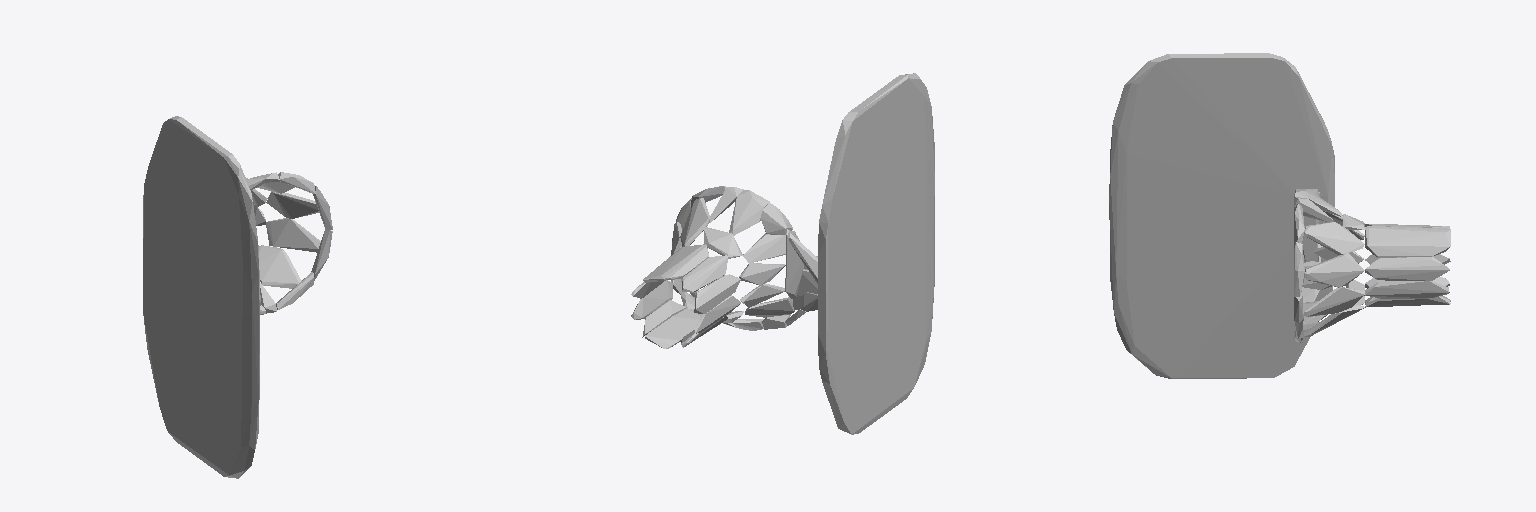
The model's file is basketball_net_and_board_vhacd.obj.
3 views of the same model, side by side, from view 1: azimuth 30°, elevation 25°; view 2: azimuth 150°, elevation 25°; view 3: azimuth 270°, elevation 25° (orthographic).
Parts seen in each view (by area): view 1: convex_0, convex_18, convex_25, convex_30; view 2: convex_0, convex_7, convex_8, convex_2, convex_11, convex_6, convex_22, convex_10, convex_16, convex_29, convex_13, convex_20 (+6 smaller); view 3: convex_0, convex_13, convex_3, convex_10, convex_30, convex_22, convex_25, convex_9.
Part boxes in pixels (x1,y1,x2,y2): convex_0: (143, 116, 260, 478); convex_18: (259, 245, 301, 288); convex_25: (266, 218, 320, 252); convex_30: (266, 191, 318, 218); convex_0: (818, 73, 934, 434); convex_7: (645, 308, 701, 348); convex_8: (729, 190, 769, 235); convex_2: (694, 274, 740, 313); convex_11: (682, 255, 727, 292); convex_6: (742, 231, 795, 263); convex_22: (680, 198, 709, 246); convex_10: (631, 280, 672, 319); convex_16: (785, 229, 803, 298); convex_29: (704, 227, 742, 258); convex_13: (643, 244, 705, 282); convex_20: (739, 263, 785, 284); convex_0: (1109, 53, 1334, 378); convex_13: (1365, 227, 1450, 257); convex_3: (1365, 257, 1449, 280); convex_10: (1365, 280, 1449, 298); convex_30: (1305, 253, 1364, 287); convex_22: (1305, 222, 1364, 254); convex_25: (1304, 287, 1364, 316); convex_9: (1365, 296, 1450, 307).
Bounding box in the file's own units: 61.27 × 109 × 105.